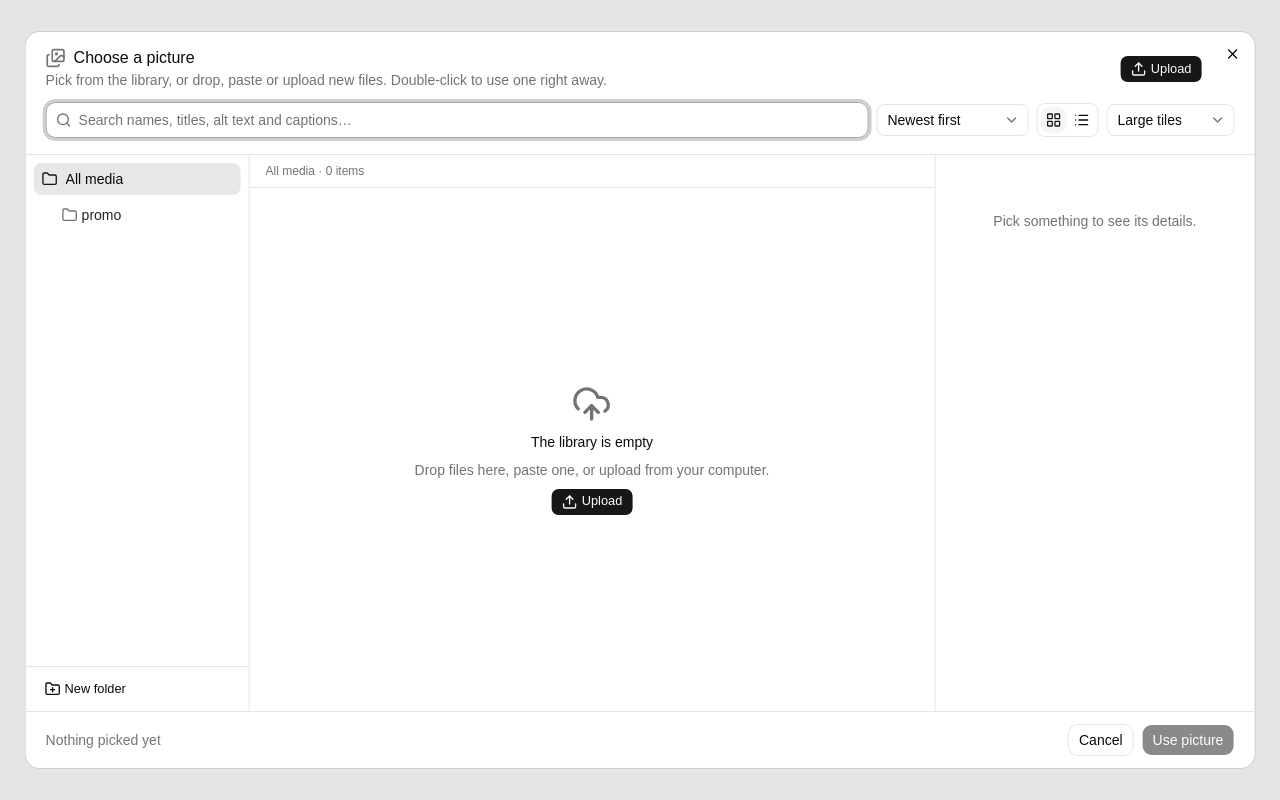
media picker › tells an empty folder from an empty library
Expected: the text "The library is empty" is shown, [531, 432, 653, 452]
Click the text "promo": point(101, 215) [82, 207, 121, 223]
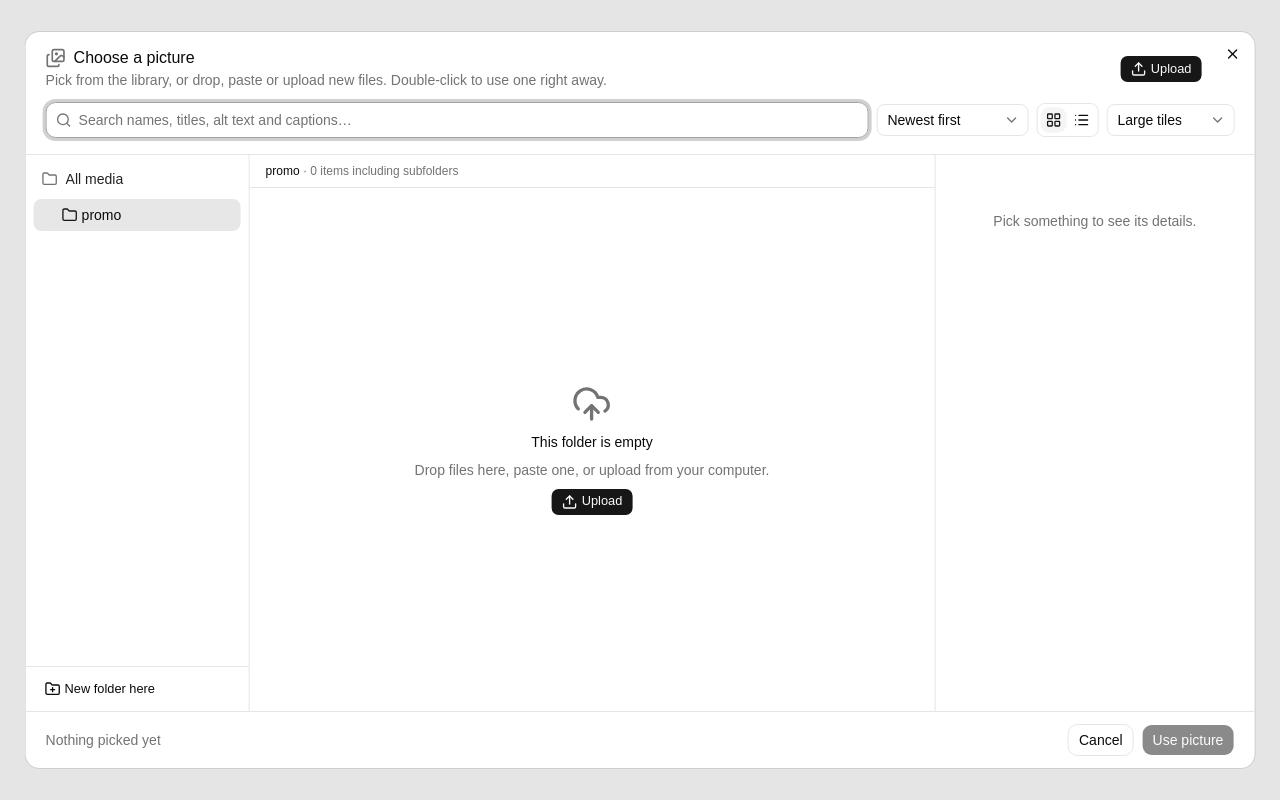
Expected: the number of buttons "Upload" is 2, [1120, 55, 1202, 83]; [551, 488, 633, 516]
Expected: the text "This folder is empty" is shown, [531, 432, 653, 452]
